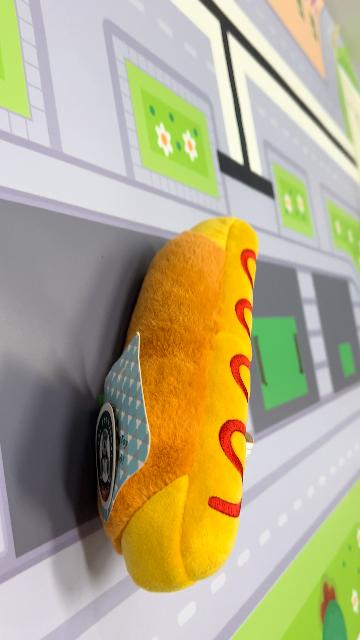hotdog: (93, 216, 260, 594)
